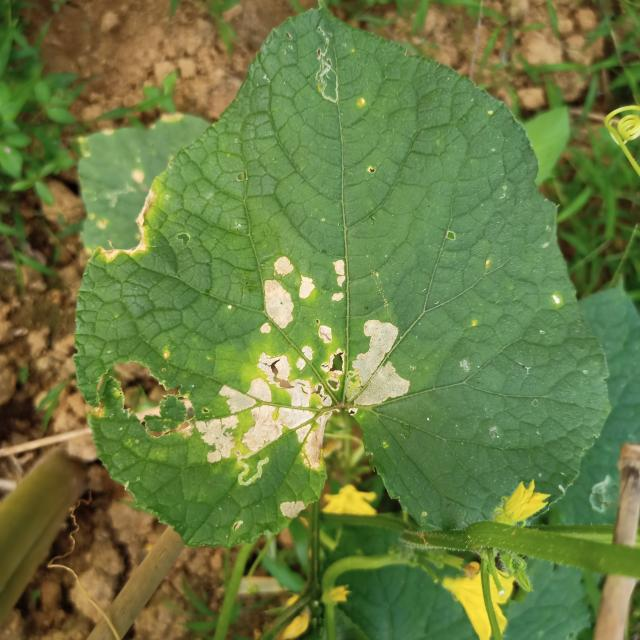disease_cucumber: (198, 248, 422, 472)
